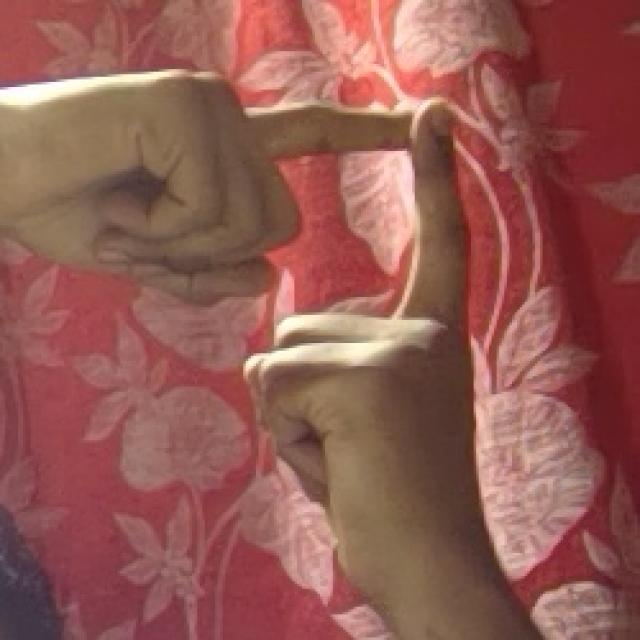Alphabet-E: (23, 61, 453, 572)
